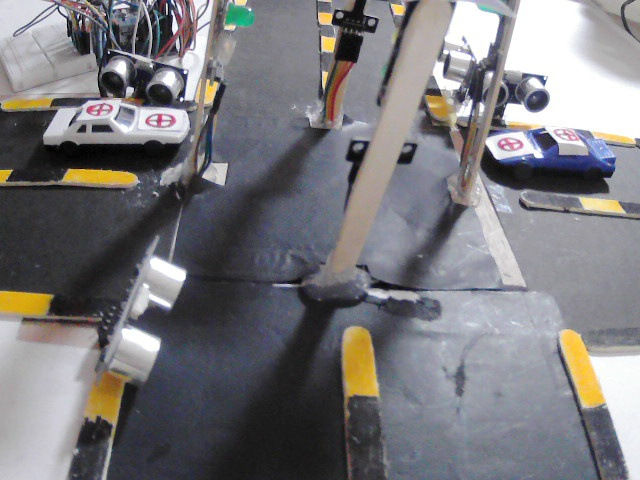emergency_vehicle: (43, 98, 189, 156), (489, 125, 617, 185)
traffic_light: (218, 2, 254, 43)
uno_breadboard: (0, 0, 195, 91), (96, 236, 190, 384), (99, 49, 189, 105), (481, 68, 552, 118), (437, 34, 481, 102)
